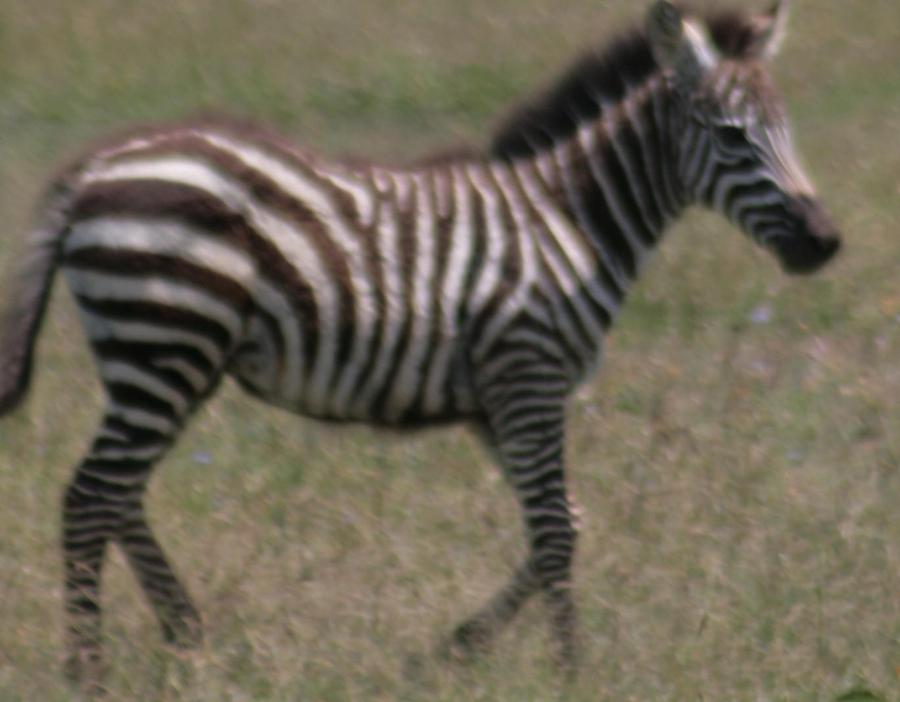zebra_plains: (57, 93, 634, 438)
